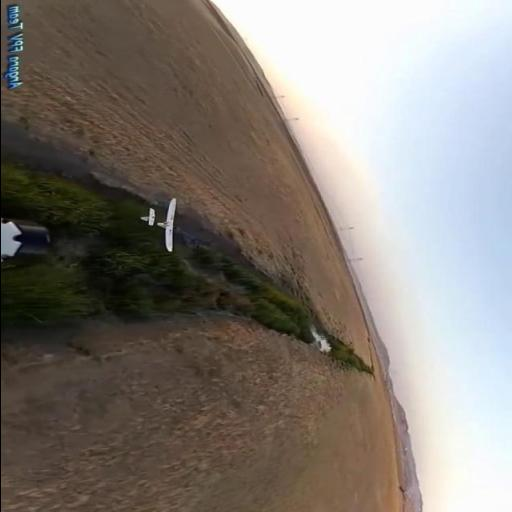uav: (140, 198, 178, 252)
